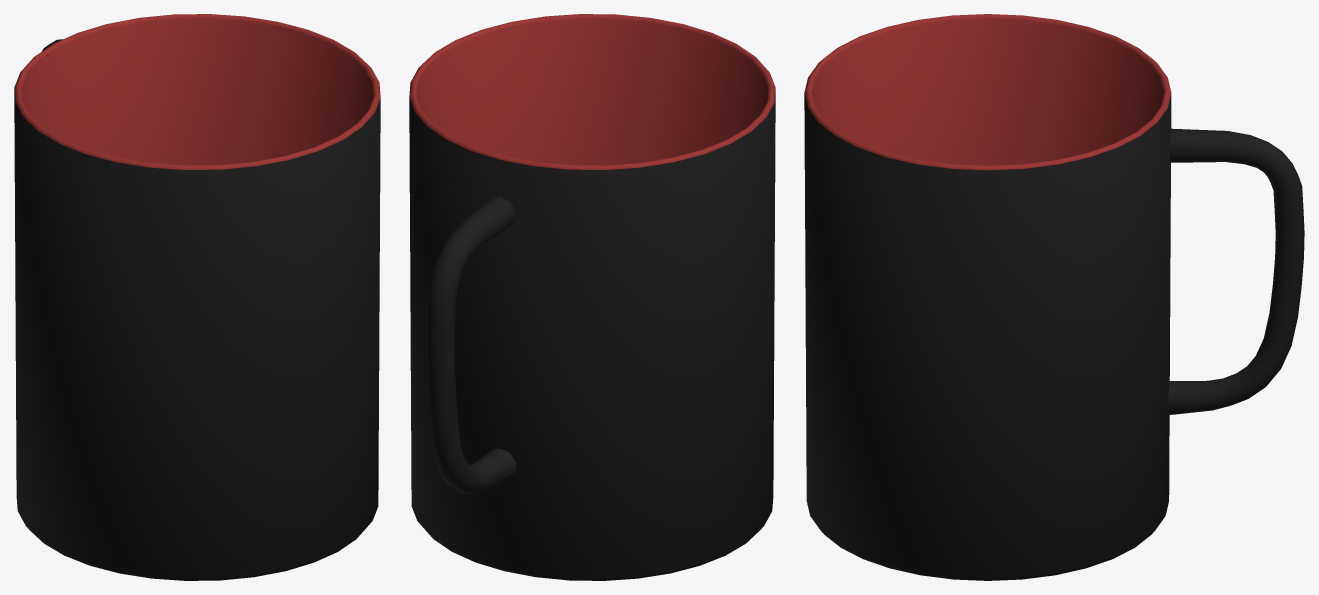
Rendered from mug black.FBX.
3 renders of one model, left to right at view 1: azimuth 30°, elevation 25°; view 2: azimuth 150°, elevation 25°; view 3: azimuth 270°, elevation 25°, orthographic.
Parts seen in each view (by area): view 1: mug black; view 2: mug black; view 3: mug black.
Boxes of the visible parts, x1,y1,x2,y2 form: mug black: (14,14,380,580); mug black: (409,14,775,580); mug black: (804,14,1304,580).
Bounding box in the file's own units: 3.93 × 5.36 × 4.92.
Materials: 1 (1 with a texture image).
